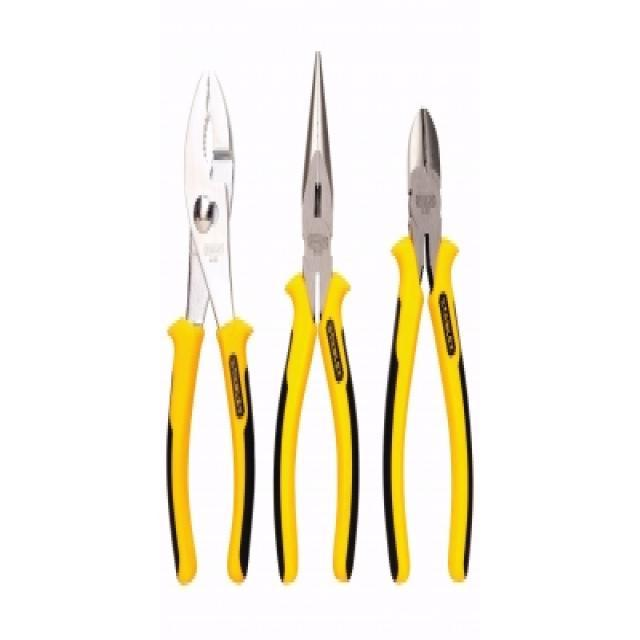pliers: (160, 57, 259, 591), (270, 44, 363, 588)
